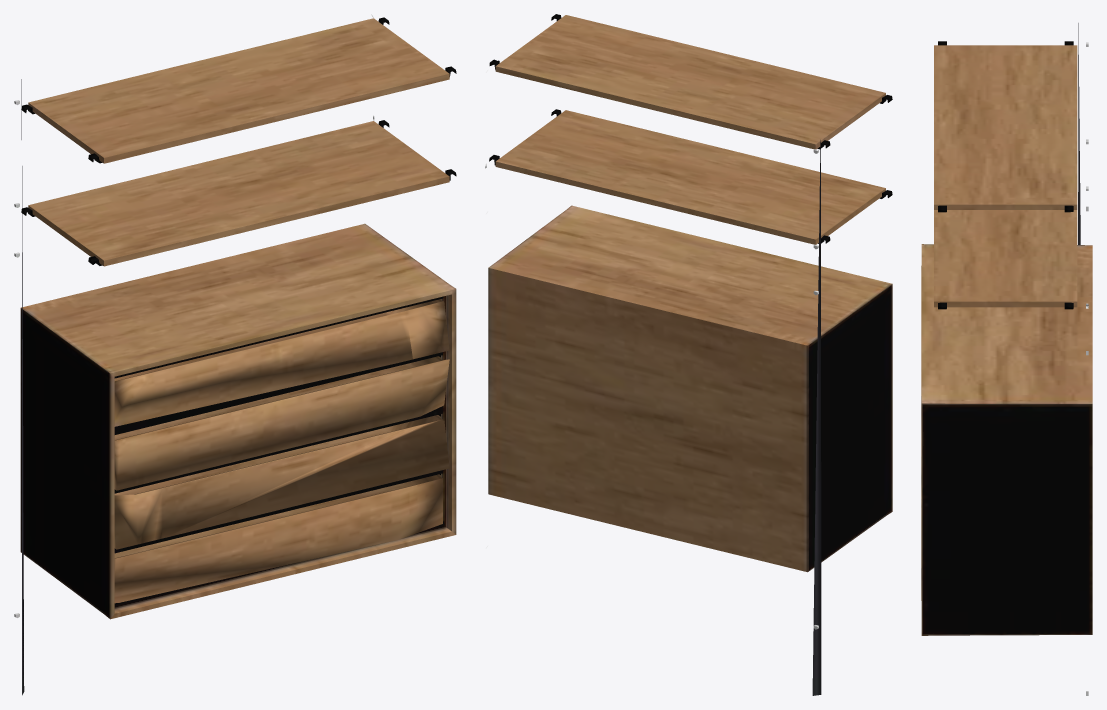
File: shelf.glb
The picture shows the model from 3 angles, left to right: view 1: azimuth 30°, elevation 25°; view 2: azimuth 150°, elevation 25°; view 3: azimuth 270°, elevation 25°; orthographic projection. The views are drawn at different scales.
Parts seen in each view (by area): view 1: drawer_cabinet; view 2: drawer_cabinet; view 3: drawer_cabinet.
Boxes of the visible parts, <box> form: drawer_cabinet: <box>14,14,456,695</box>; drawer_cabinet: <box>485,14,892,695</box>; drawer_cabinet: <box>921,23,1092,695</box>.
Size of the model in its own units: 1.13 by 1.85 by 0.4881.
1 material, 1 textured.
